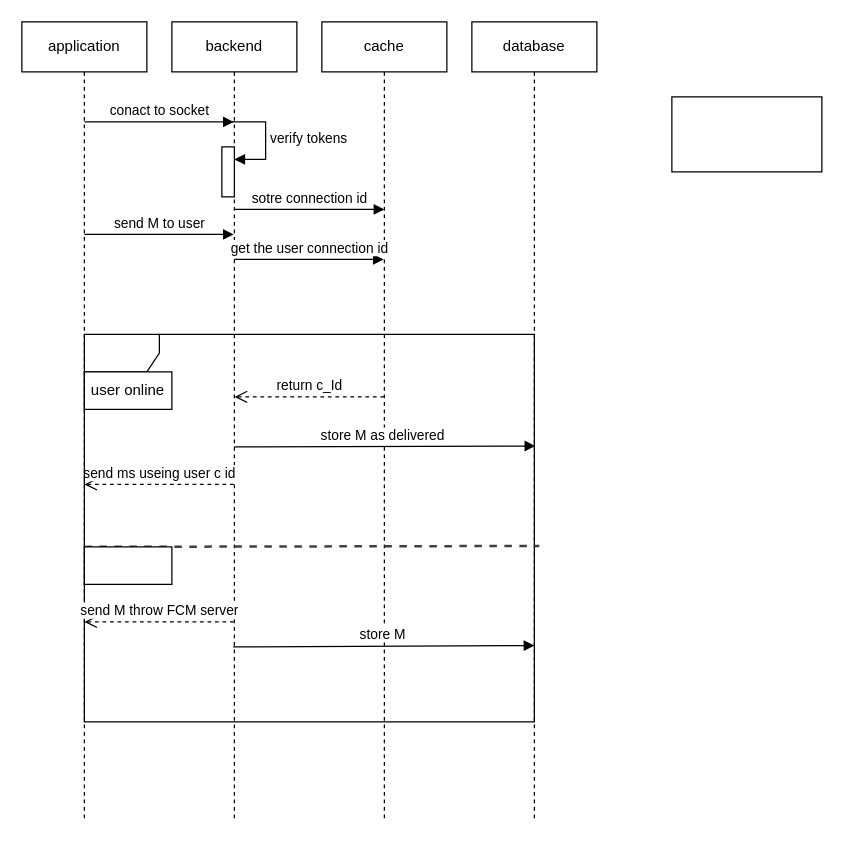
Some shapes in this 844 by 844 pixel diagram are drawn without their labels. The centre of each missing label's shape, as x and y in pixels:
"frame" belongs at pixel 308 527.
"M : message c id : connection id" belongs at pixel 746 134.
"user offline" belongs at pixel 127 565.
